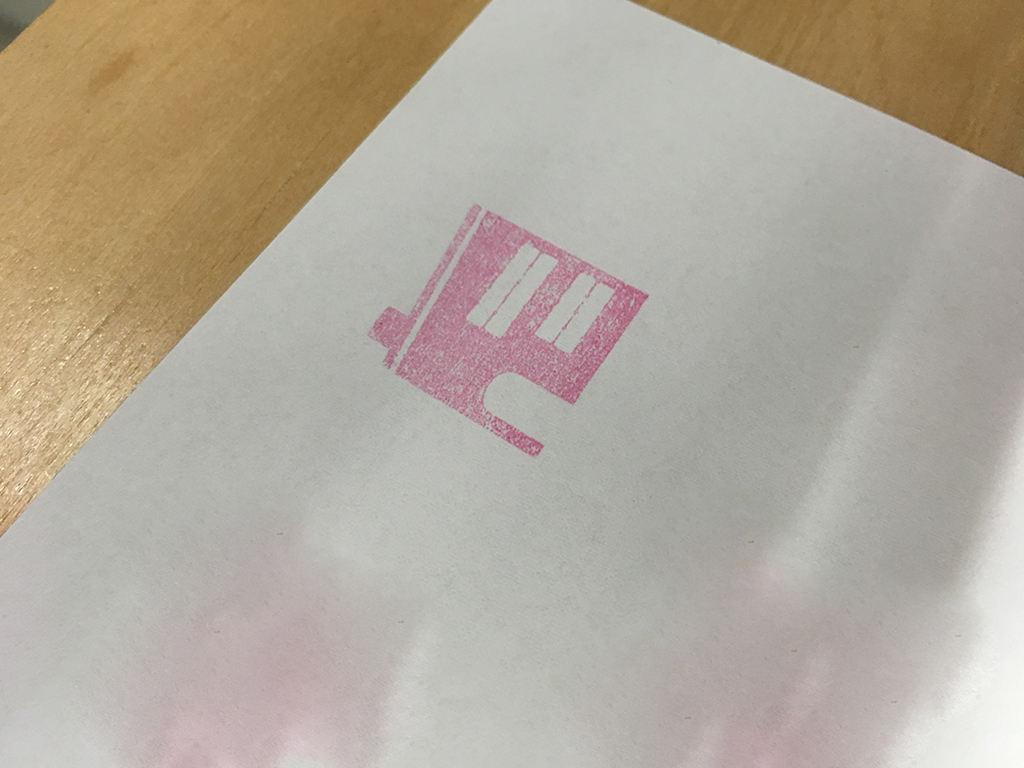house: (357, 193, 665, 478)
